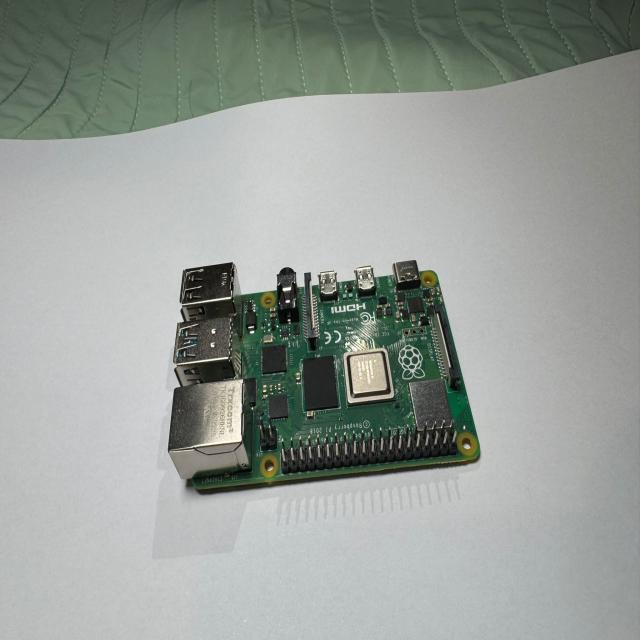CPU: (346, 350, 397, 408)
Ethernet: (168, 381, 252, 478)
GPIO: (278, 428, 459, 476)
RAM: (302, 356, 342, 418)
Raspberry: (165, 261, 482, 501)
micro-hdmi: (354, 265, 377, 298), (318, 270, 339, 301)
